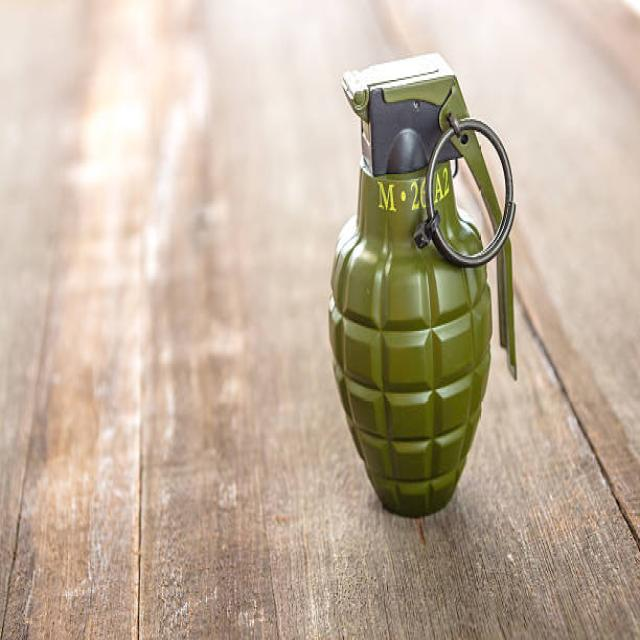grenade: (328, 47, 525, 526)
